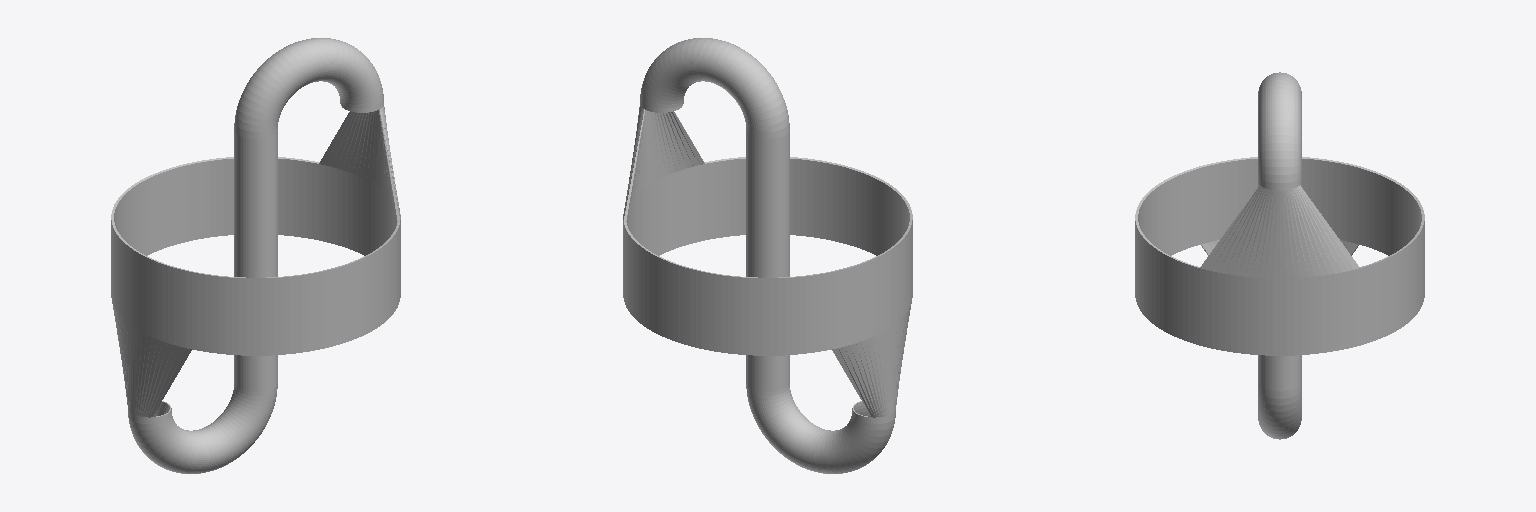
Rendered from RingMap2.obj.
3 views of the same model, side by side, from view 1: azimuth 30°, elevation 25°; view 2: azimuth 150°, elevation 25°; view 3: azimuth 270°, elevation 25° (orthographic).
Visible parts, largest first — view 1: Cylinder.001; view 2: Cylinder.001; view 3: Cylinder.001.
Part boxes in pixels (x1,y1,x2,y2): Cylinder.001: (111,38,400,473); Cylinder.001: (623,38,912,473); Cylinder.001: (1135,72,1424,439).
Bounding box in the file's own units: 212 × 326 × 212.